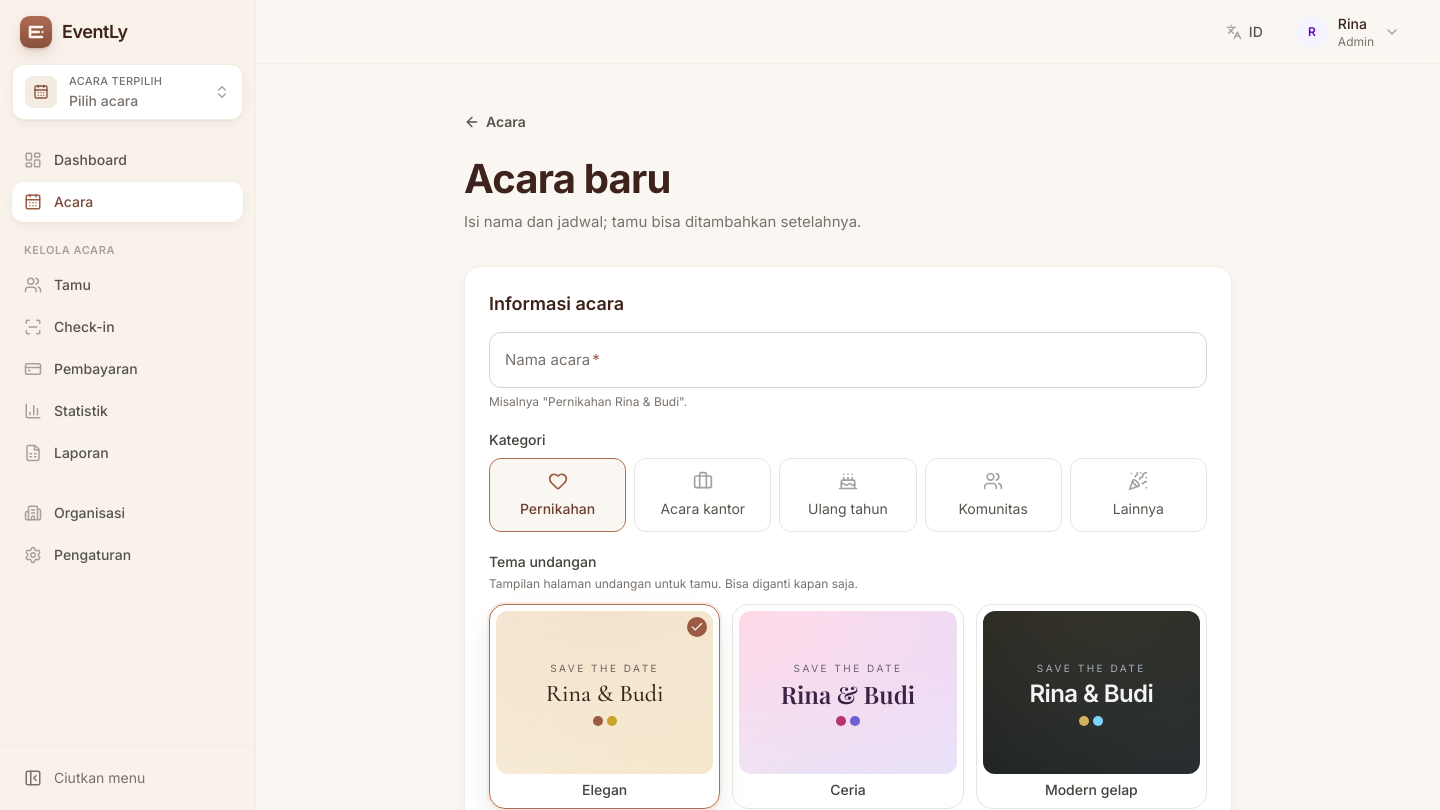
Scenario: event pages › creates an event with local session times and exactly one check-in session
Type "Pernikahan Rina & Budi" into the field labelled "Nama acara". click: (848, 360)
box: x1=489 y1=332 x2=1207 y2=388
(page scrolled)
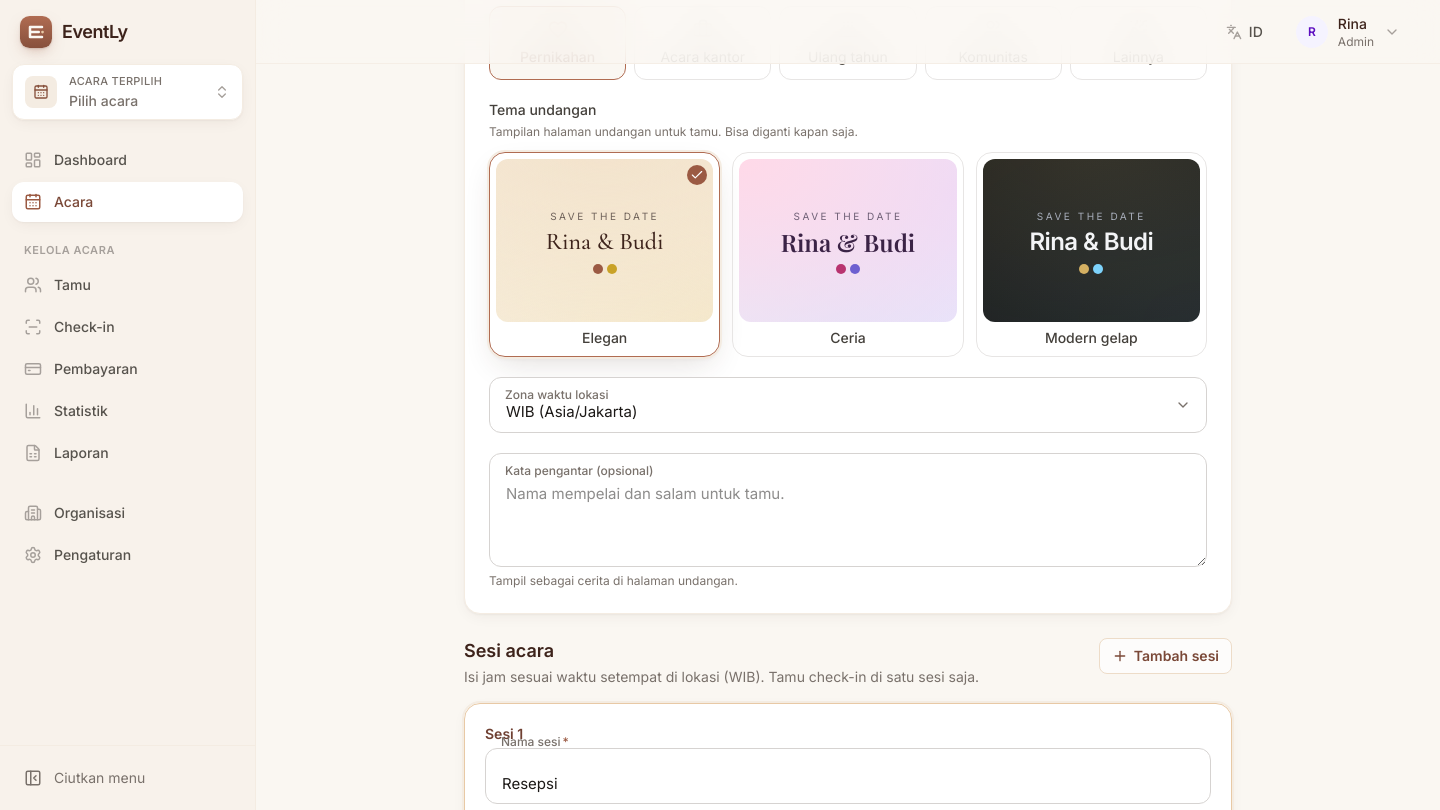
Select "WITA (Asia/Makassar)" in the dropdown labelled "Zona waktu lokasi". click: (848, 405)
box: x1=489 y1=377 x2=1207 y2=433
(page scrolled)
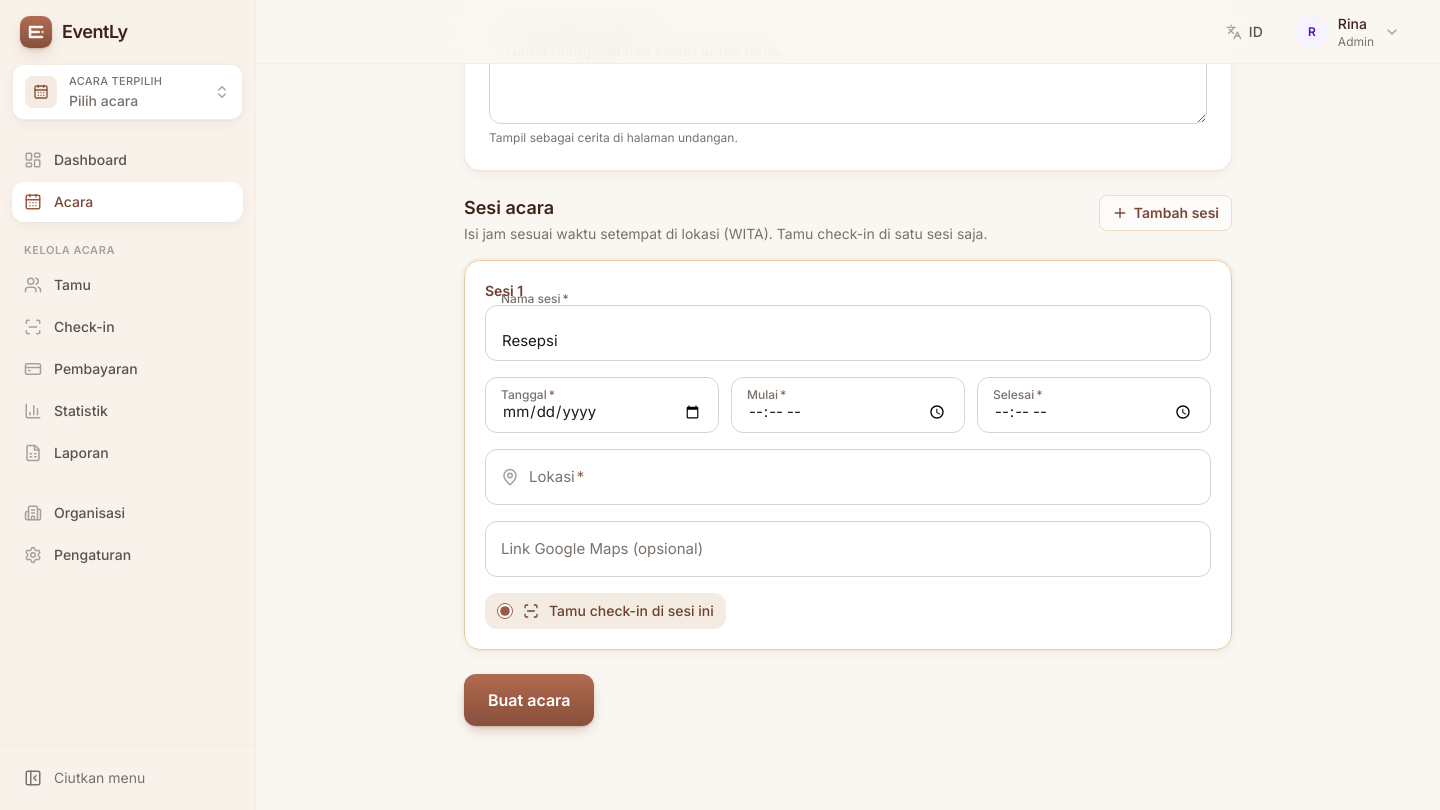
Type "2026-12-12" into the date field labelled "Tanggal". click: (602, 405)
box: x1=485 y1=377 x2=719 y2=433
Type "11:00" into the time field labelled "Mulai". click: (848, 405)
box: x1=731 y1=377 x2=965 y2=433
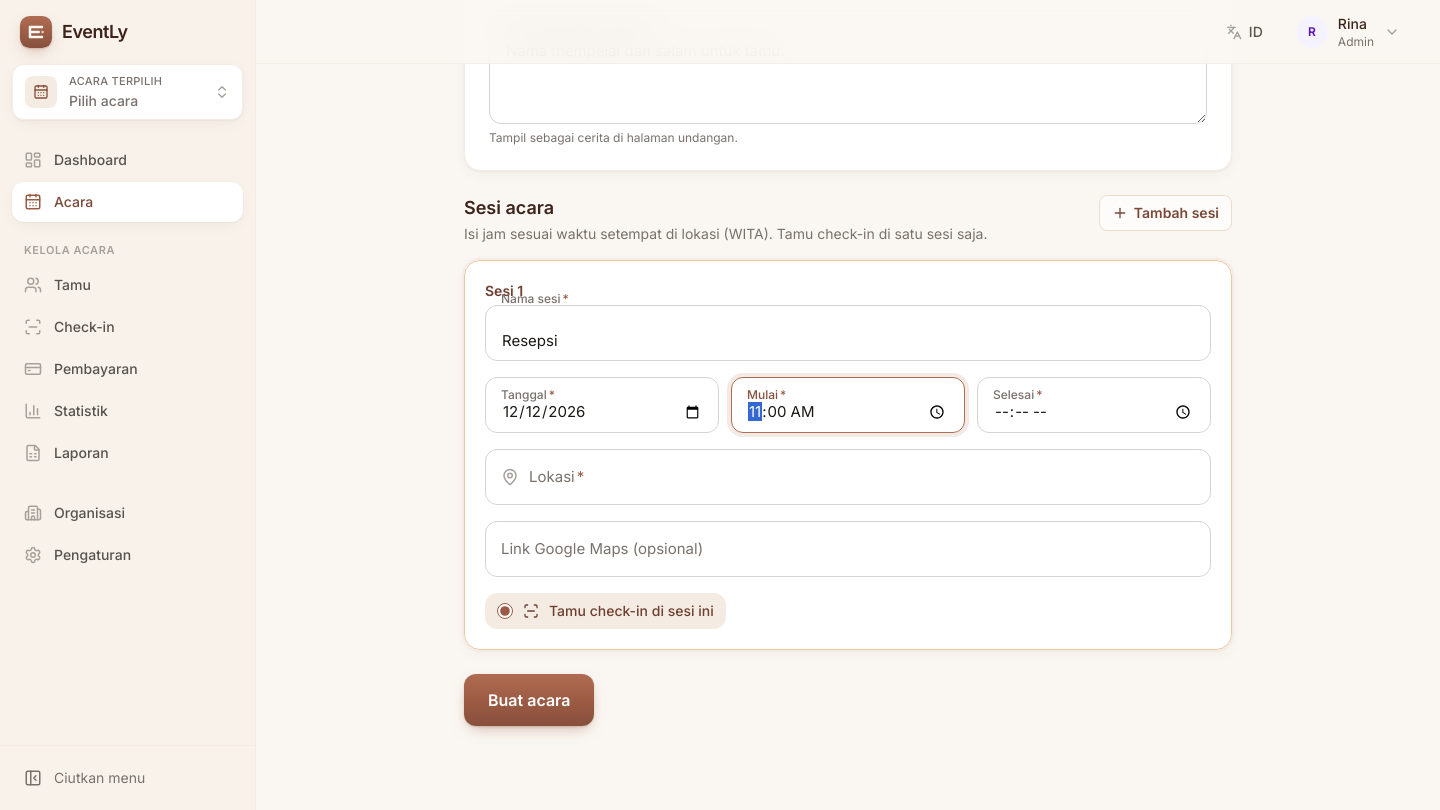
Type "14:00" into the time field labelled "Selesai". click: (1094, 405)
box: x1=977 y1=377 x2=1211 y2=433
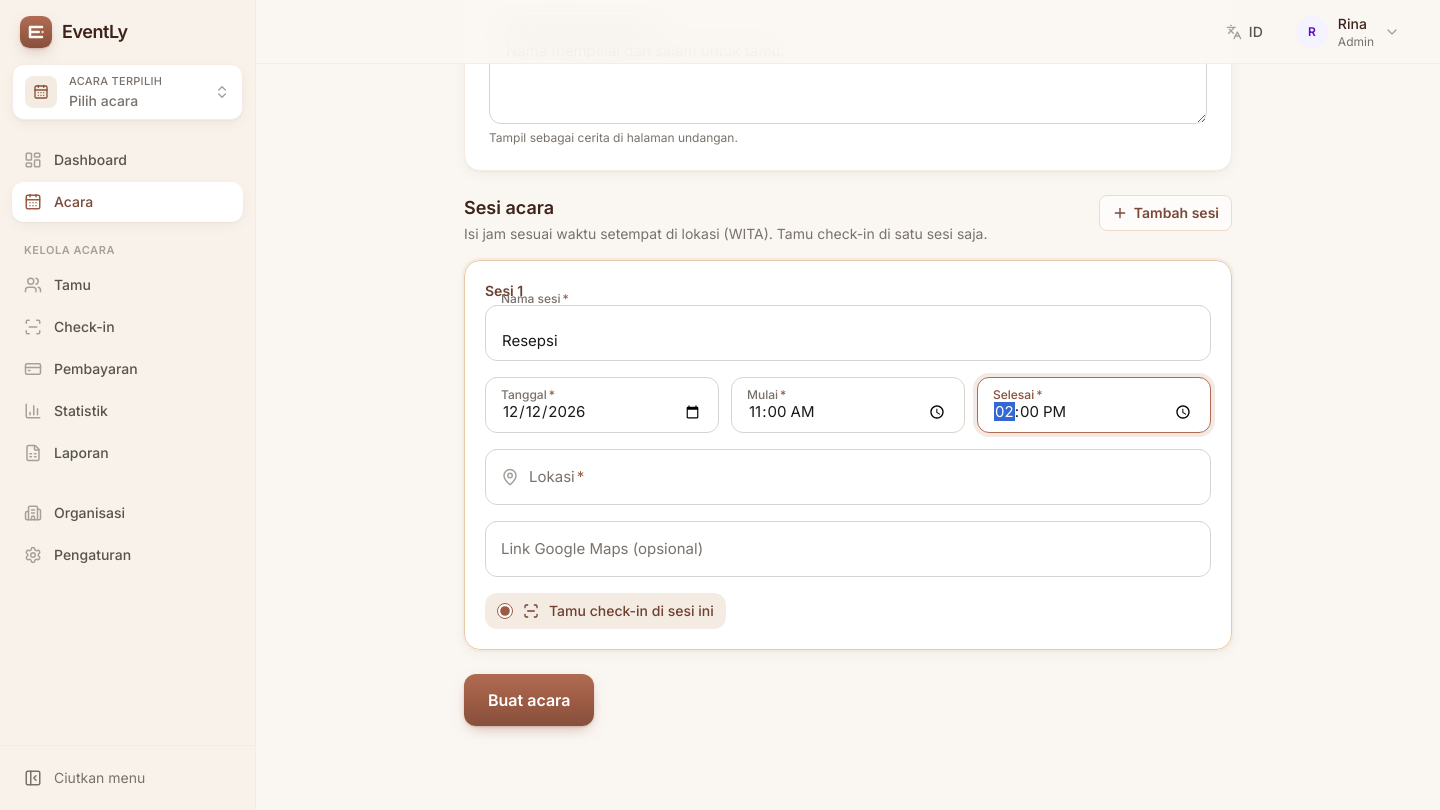
Type "Gedung Serbaguna" into the field labelled "Lokasi". click: (848, 477)
box: x1=485 y1=449 x2=1211 y2=505
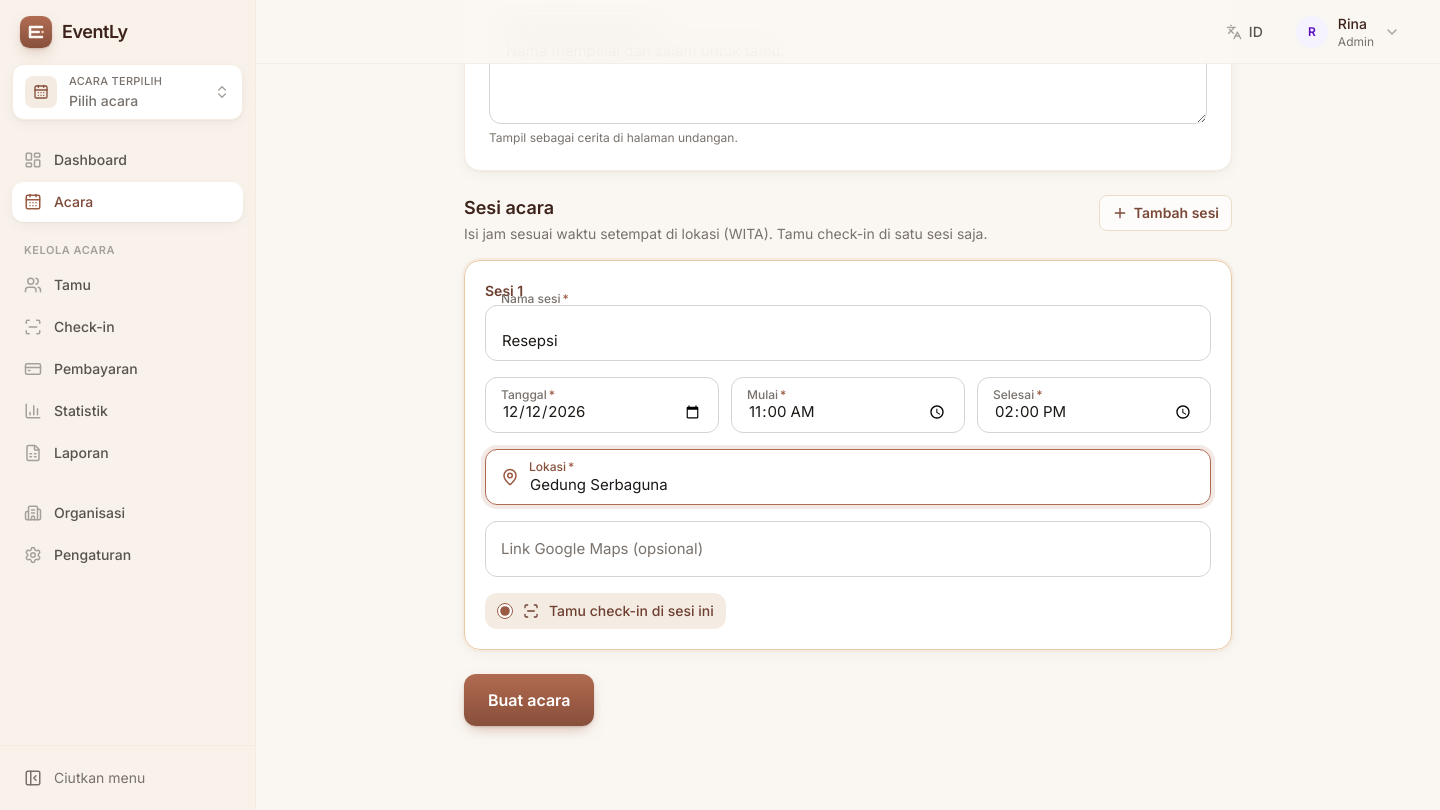
Click the button "Buat acara". click: (529, 700)
box: x1=464 y1=674 x2=594 y2=726
(page scrolled)
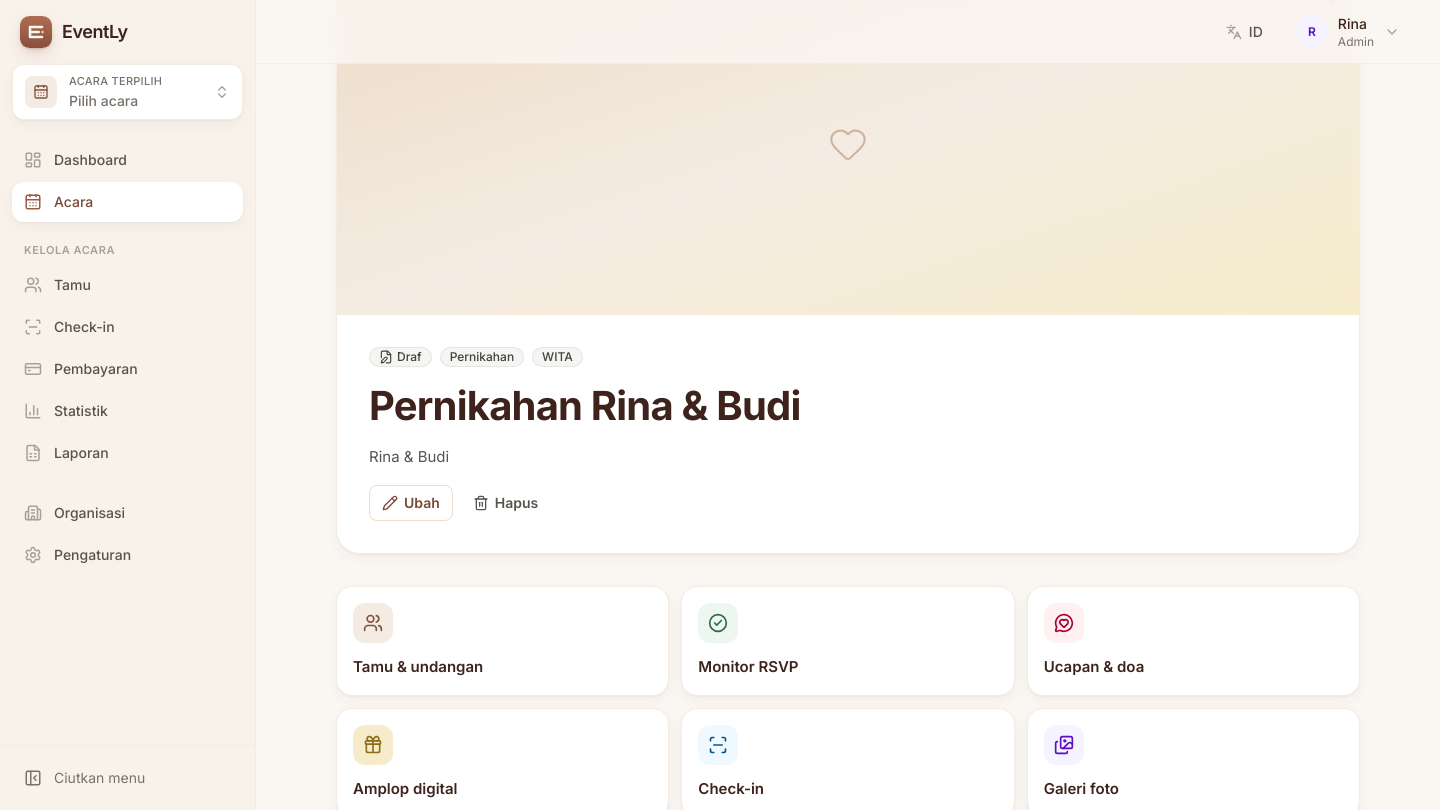
Expected: the heading "Pernikahan Rina & Budi" is shown, x1=369 y1=381 x2=800 y2=430
